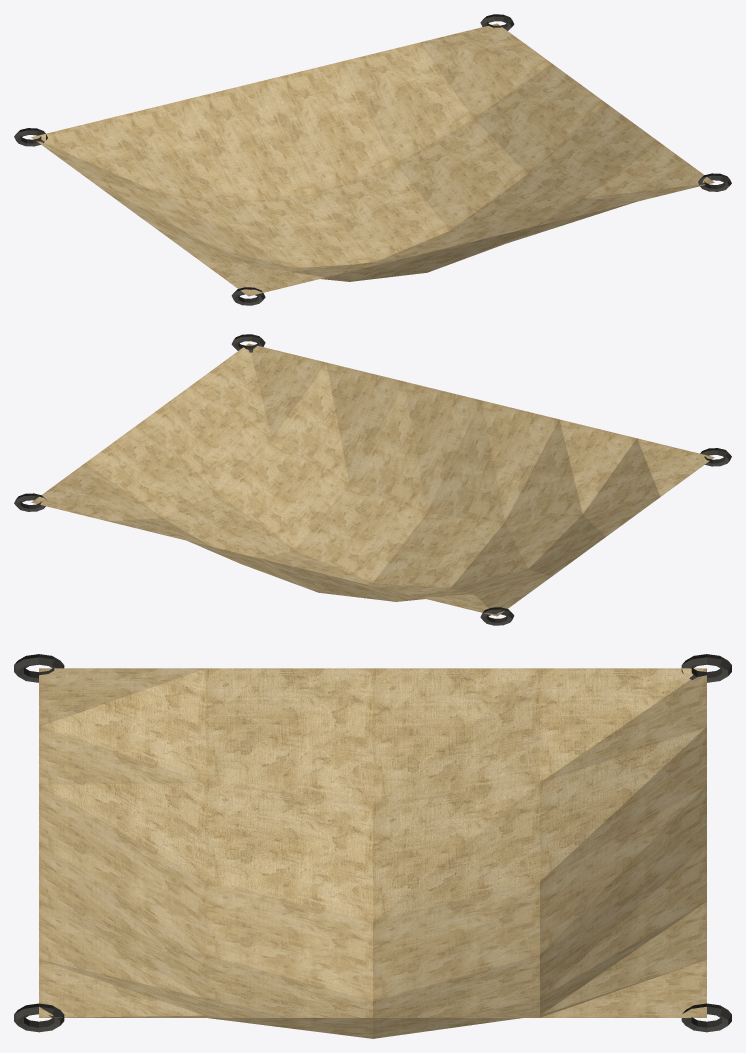
File: PRP_SHELTER_TARP_001_WET_SAG.obj
3 views of the same model, one above another, from view 1: azimuth 30°, elevation 25°; view 2: azimuth 150°, elevation 25°; view 3: azimuth 270°, elevation 25° (orthographic). The views are drawn at different scales.
Parts seen in each view (by area): view 1: Tarp_WET_SAG, ReinforcedTiePoint; view 2: Tarp_WET_SAG, ReinforcedTiePoint; view 3: Tarp_WET_SAG, ReinforcedTiePoint.
Part boxes in pixels (x1,y1,x2,y2): Tarp_WET_SAG: [31, 23, 714, 296]; ReinforcedTiePoint: [14, 14, 731, 305]; Tarp_WET_SAG: [31, 343, 714, 616]; ReinforcedTiePoint: [14, 334, 731, 625]; Tarp_WET_SAG: [39, 668, 706, 1038]; ReinforcedTiePoint: [14, 654, 731, 1032].
Bounding box in the file's own units: 2.77 × 0.5671 × 2.26.
2 materials, 2 textured.
